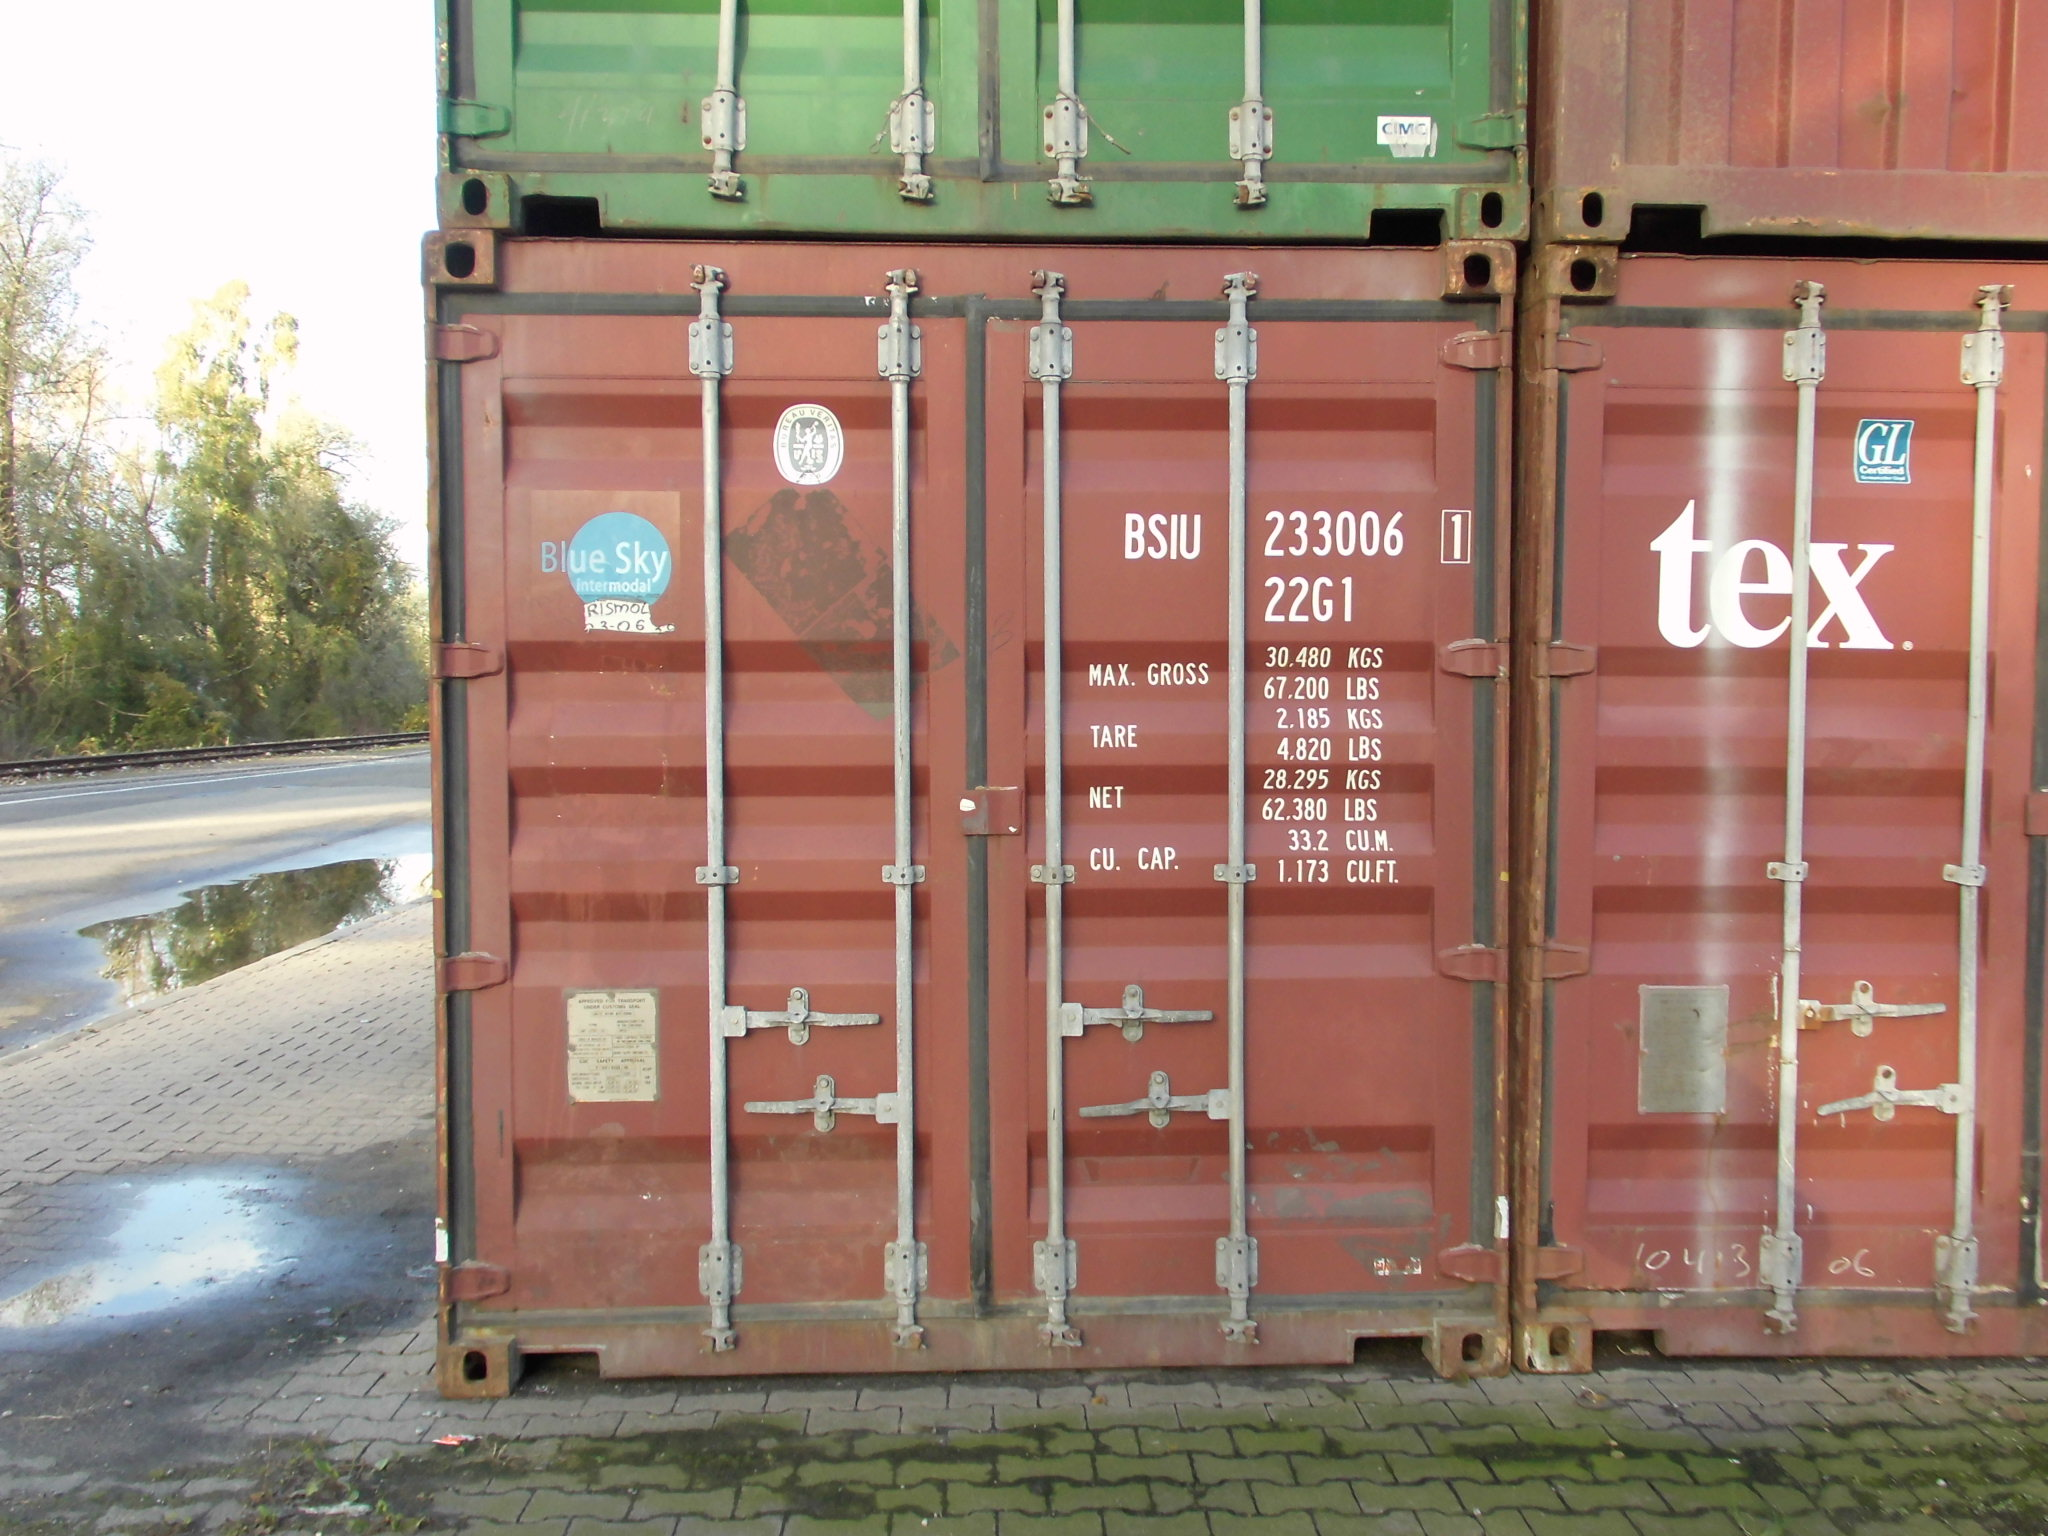container_door: (427, 231, 1521, 1386)
